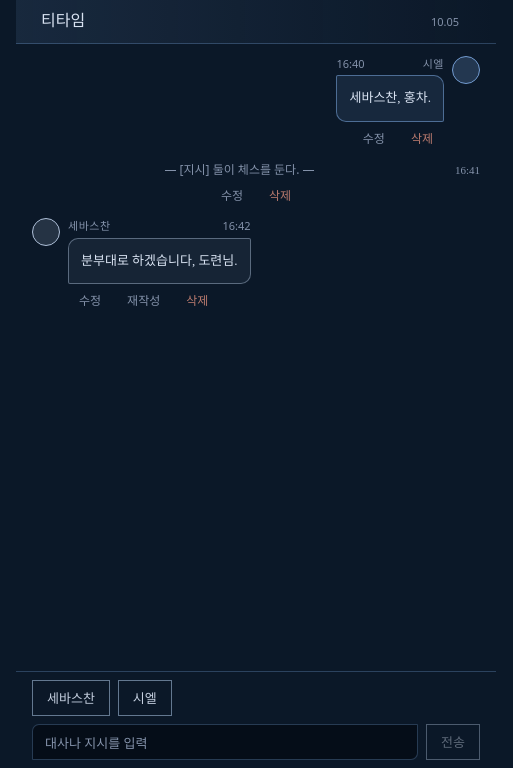
Scenario: 재작성 실패 (R-CHAT-007 · R-CHAT-011) › TC-CH-083: (a) NOT_FOUND, 남은 메시지 있음 → 대상·그 버튼 줄 제거·토스트, 재조회 없음, 포커스 = log
The image size is (513, 768).
expect the element named "대화 기록" is shown: met, box [32,56,480,316]
Click the button with aria-label "대사 재작성": (144, 302) [116,288,171,316]
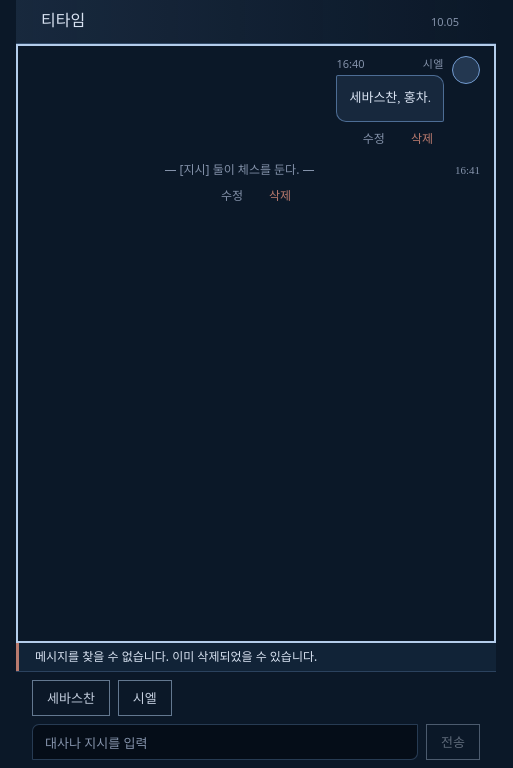
expect the number of list items is 2: met, box [336,56,480,154]; [164,160,480,210]
expect the text "분부대로 하겠습니다, 도련님." is gone: met
